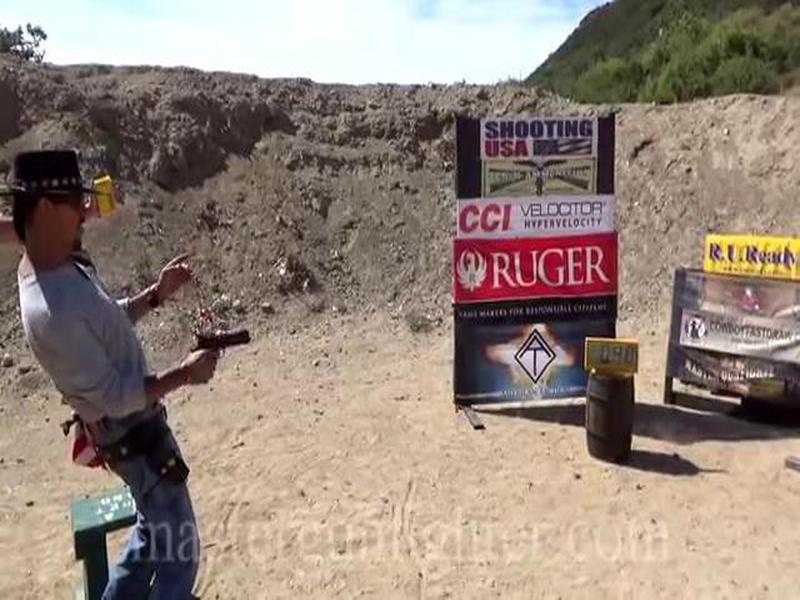Pistola: (177, 322, 257, 394)
